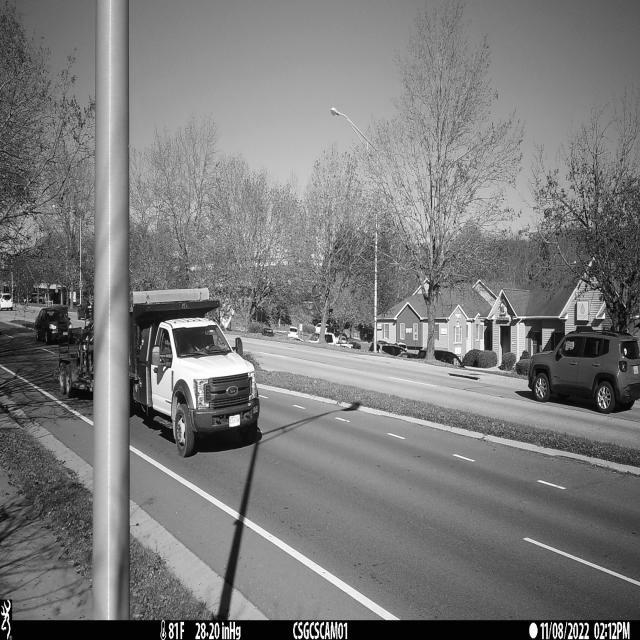Box Truck: (58, 320, 93, 398)
Pickup- Utility: (131, 289, 261, 458)
